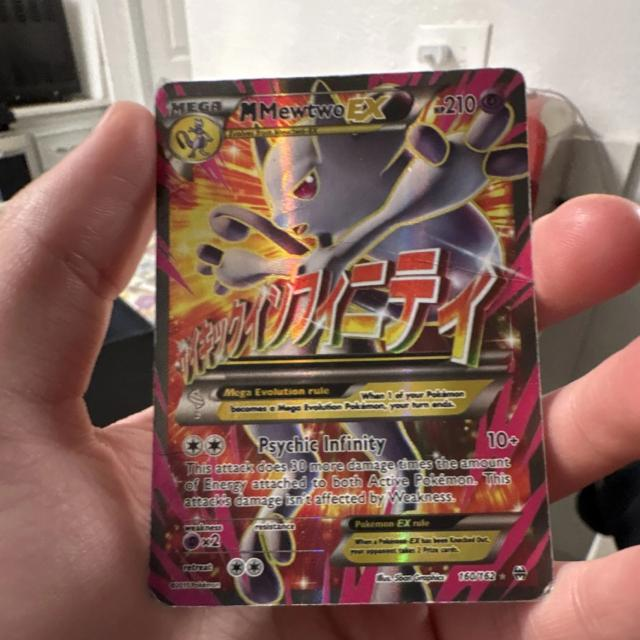Card: (137, 61, 560, 618)
Name: (233, 90, 398, 133)
